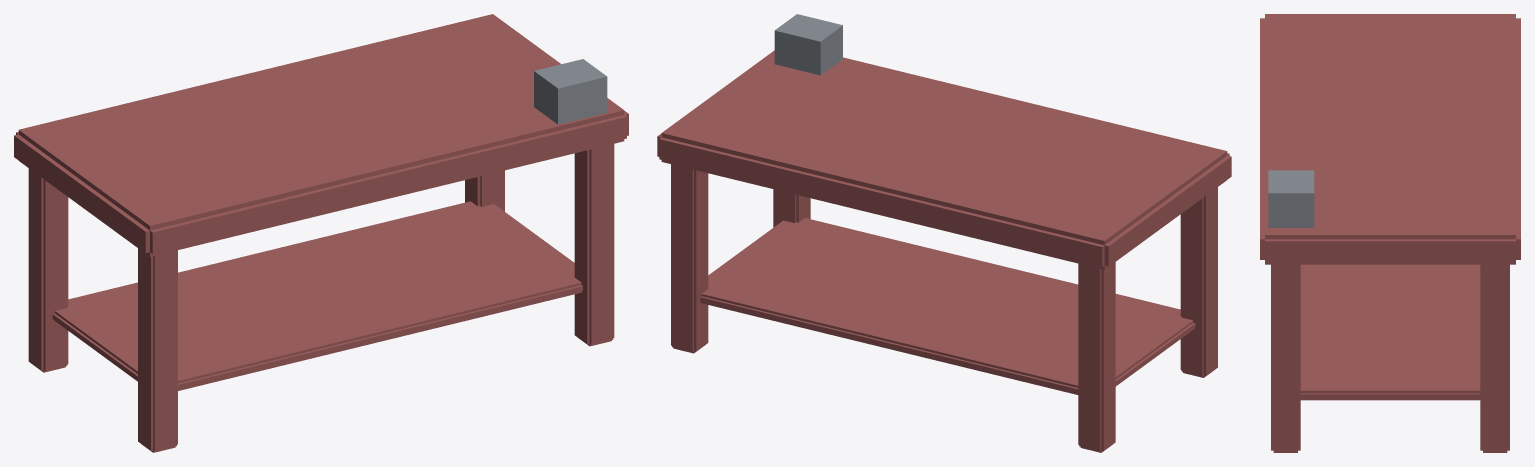
File: shadewood_workbench_v0.glb
The picture shows the model from 3 angles, left to right: view 1: azimuth 30°, elevation 25°; view 2: azimuth 150°, elevation 25°; view 3: azimuth 270°, elevation 25°; orthographic projection. The views are drawn at different scales.
Parts seen in each view (by area): view 1: shadewood_workbench_v0; view 2: shadewood_workbench_v0; view 3: shadewood_workbench_v0.
Boxes of the visible parts, x1,y1,x2,y2 form: shadewood_workbench_v0: [14, 14, 628, 452]; shadewood_workbench_v0: [657, 14, 1231, 452]; shadewood_workbench_v0: [1260, 14, 1520, 452].
Size of the model in its own units: 1.96 by 1.04 by 0.96.
